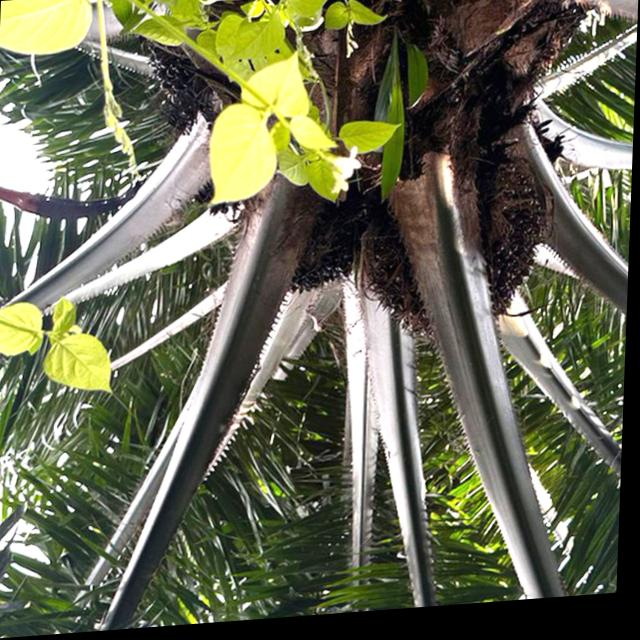unripe: (368, 163, 557, 360), (239, 166, 369, 308)
